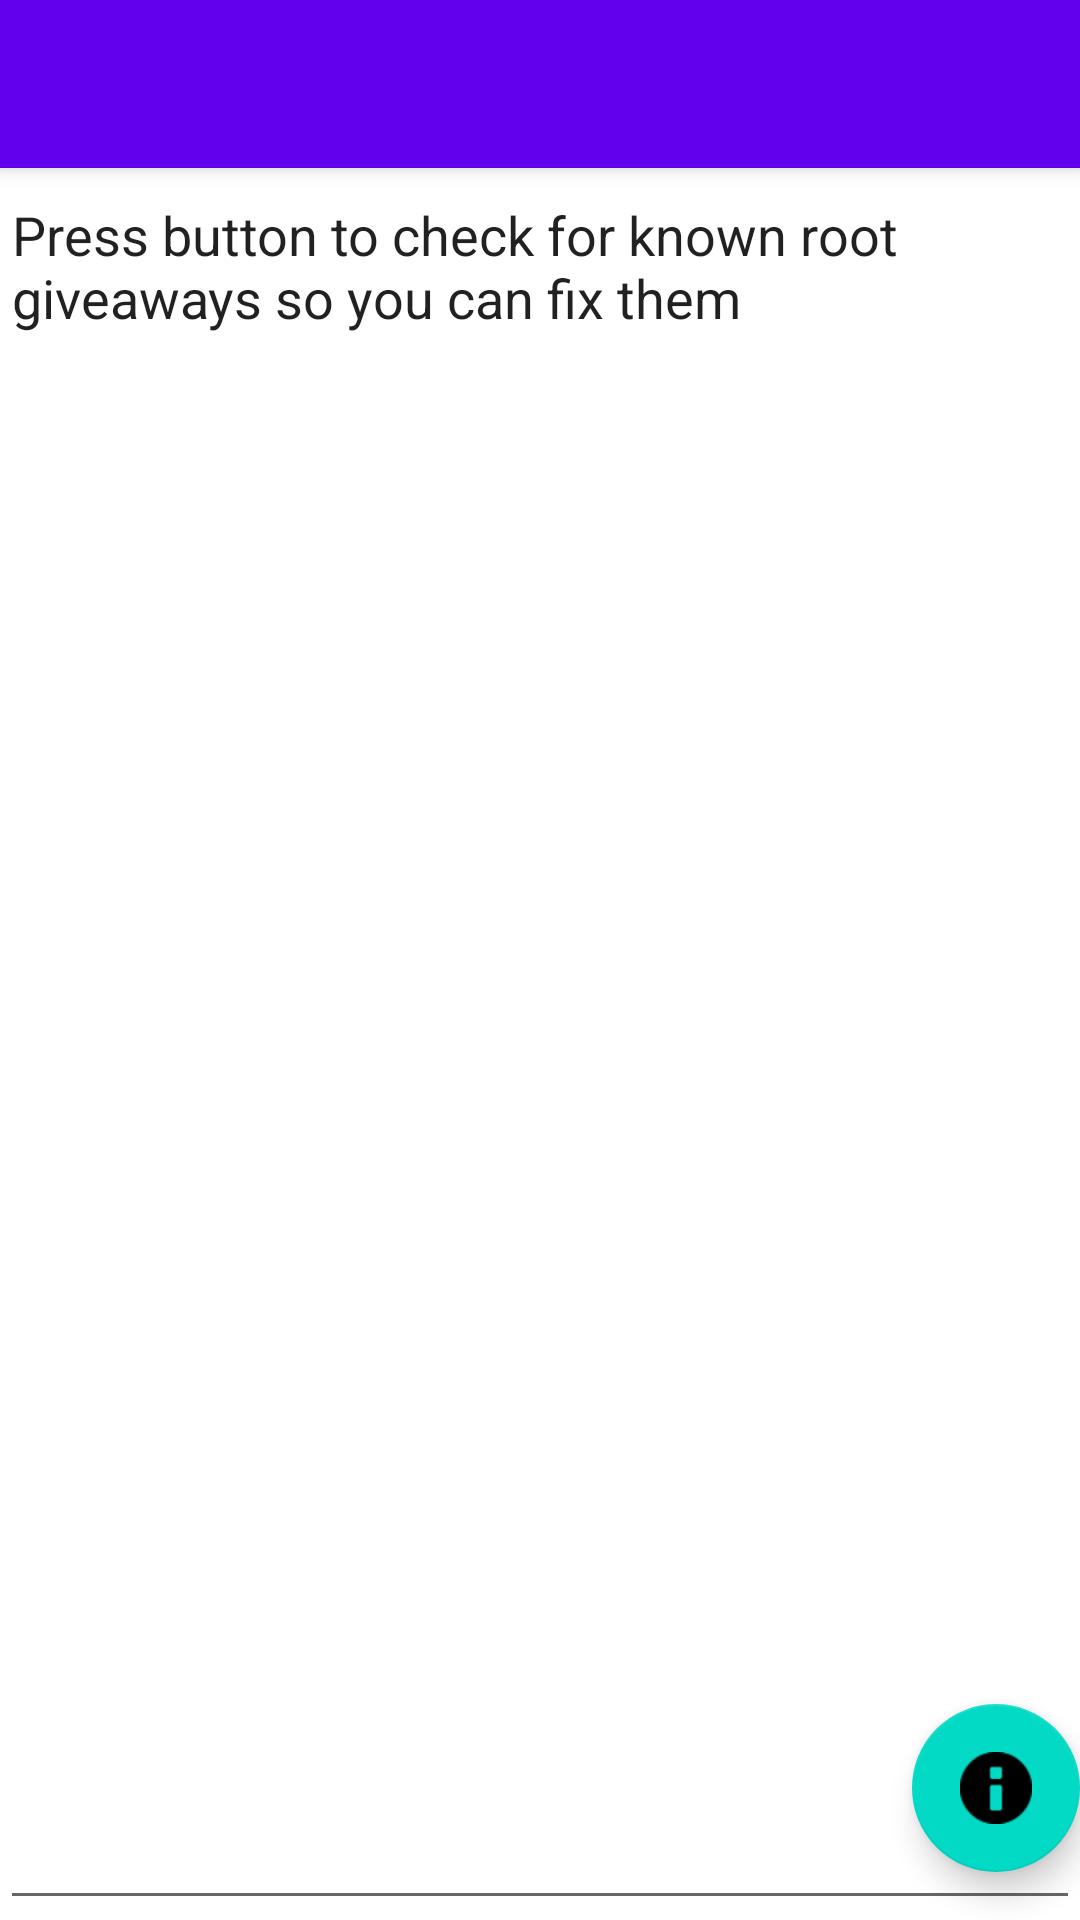

Point at icon controls on the screen. Image size 1080px x 1920px, points as (x,y).
info: (996,1788)
